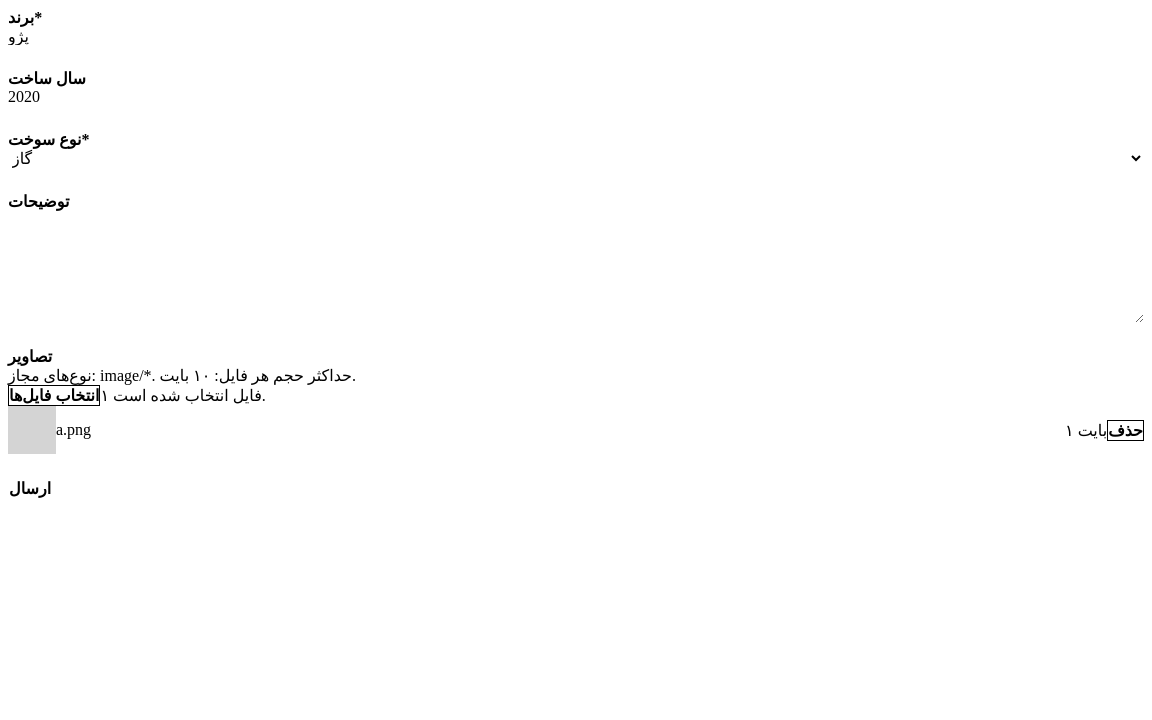
other outcomes › shows form-level server errors in an alert and keeps the data
Earlier steps of the test are not shown.
Click the button "ارسال" at (30, 488), box [8, 478, 52, 499]
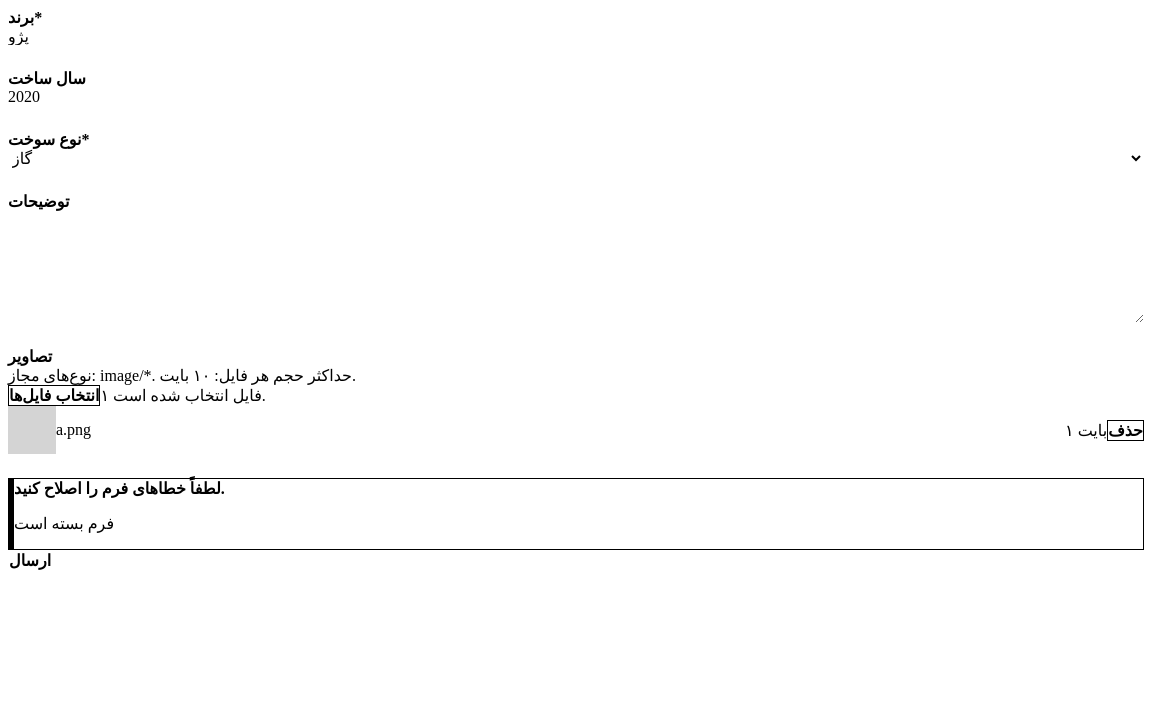
Check: the field labelled "برند*" holds "پژو", box [8, 27, 1144, 45]
Check: the message shows "لطفاً خطاهای فرم را اصلاح کنید.", box [14, 480, 225, 497]
Check: the message shows "فرم بسته است", box [14, 515, 114, 532]
